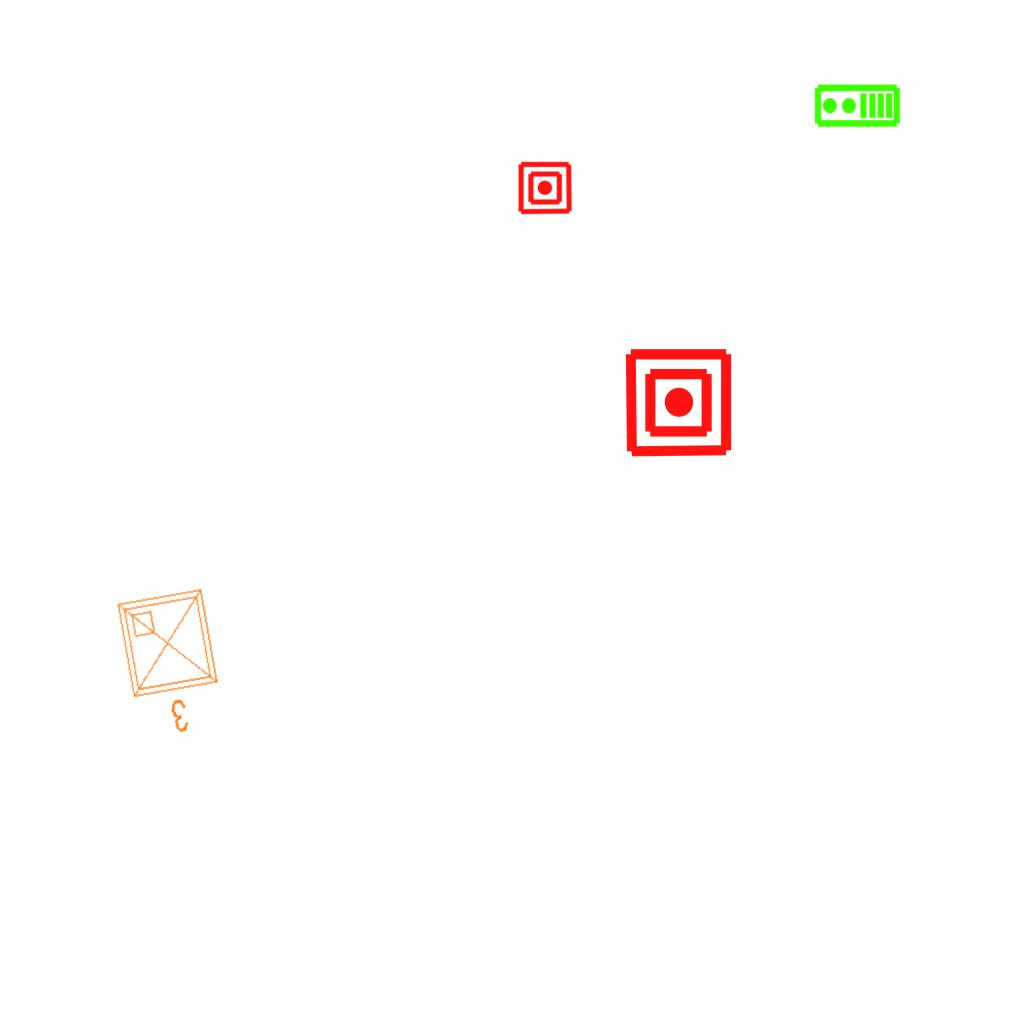Einbaudownlights_LED_Konferenzraeume: (108, 580, 238, 746)
Gegensprechanlage_mit_Video: (813, 83, 901, 130)
NAM-Nichtautomatischer_Melder: (622, 346, 735, 459), (517, 160, 573, 216)
